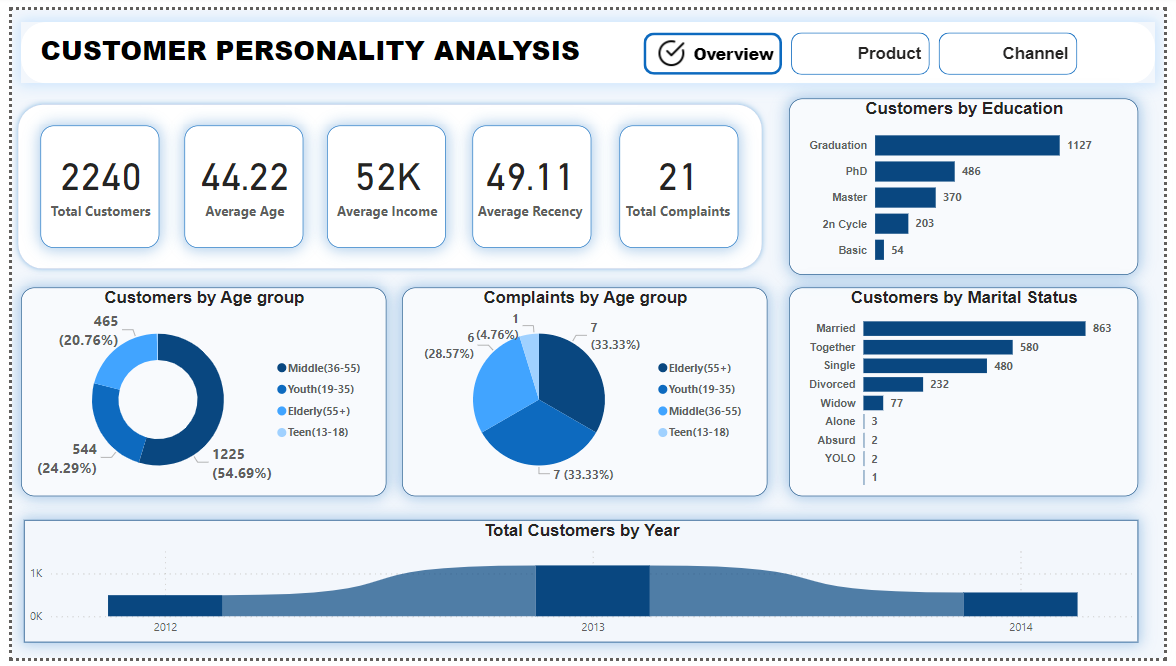

What the dashboard file says about the page in this screenshot:
{"tool":"powerbi","page":{"name":"Overview","canvas":[1280,720],"ordinal":0},"visuals":[{"type":"shape","box":[10,14,1260,68],"z":0},{"type":"textbox","title":"CUSTOMER PERSONALITY ANALYSIS","box":[26,24,614,48],"z":1000},{"type":"pageNavigator","box":[701.1,24.6,483.8,47.2],"z":2000},{"type":"image","box":[701.1,24.6,62.4,45.4],"z":3000},{"type":"card","fields":{"Values":["Task-3-Excel Data Set.Total_Customers"]},"box":[32,128,131.9,136],"z":4000,"group":"g1"},{"type":"shape","box":[0,98,840,196],"z":4000},{"type":"card","fields":{"Values":["Task-3-Excel Data Set.Average Age"]},"box":[192,128,131.9,136],"z":5000,"group":"g1"},{"type":"group","id":"g1","title":"Group 1","box":[32,128,776,136],"z":5000},{"type":"card","fields":{"Values":["Task-3-Excel Data Set.Average Income"]},"box":[349.7,128,131.9,136],"z":6000,"group":"g1"},{"type":"donutChart","title":"Customers by Age group","fields":{"Y":["Task-3-Excel Data Set.Total Customers"],"Category":["Task-3-Excel Data Set.Age (groups)"]},"box":[10,308,406,232],"z":6000},{"type":"card","fields":{"Values":["Task-3-Excel Data Set.Average Recency"]},"box":[511.9,128,131.9,136],"z":7000,"group":"g1"},{"type":"pieChart","title":"Complaints by Age group","fields":{"Category":["Task-3-Excel Data Set.Age (groups)"],"Y":["Task-3-Excel Data Set.Total Complaints"]},"box":[434,308,406,232],"z":7000},{"type":"card","fields":{"Values":["Task-3-Excel Data Set.Total Complaints"]},"box":[676.1,128,131.9,136],"z":8000,"group":"g1"},{"type":"barChart","title":"Customers by Education","fields":{"Y":["Task-3-Excel Data Set.Total Customers"],"Category":["Task-3-Excel Data Set.Education"]},"box":[864,98,388,196],"z":8000},{"type":"barChart","title":"Customers by Marital Status","fields":{"Y":["Task-3-Excel Data Set.Total Customers"],"Category":["Task-3-Excel Data Set.Marital_Status"]},"box":[864,308,388,232],"z":9000},{"type":"ribbonChart","fields":{"Category":["Task-3-Excel Data Set.Date_Customer.Variation.Date Hierarchy.Year","Task-3-Excel Data Set.Date_Customer.Variation.Date Hierarchy.Quarter","Task-3-Excel Data Set.Date_Customer.Variation.Date Hierarchy.Month","Task-3-Excel Data Set.Date_Customer.Variation.Date Hierarchy.Day"],"Y":["Task-3-Excel Data Set.Total Customers"]},"box":[14,566,1238,136],"z":10000}]}

Visuals, with their boxes in screenshot pixels (x1, y1, x2, y2), scaled from the page's 1280x720 canvas onto the 1176x666 screenshot:
shape: bbox=[9, 13, 1167, 76]
"CUSTOMER PERSONALITY ANALYSIS" textbox: bbox=[24, 22, 588, 67]
pageNavigator: bbox=[644, 23, 1089, 66]
image: bbox=[644, 23, 701, 65]
card - Task-3-Excel Data Set.Total_Customers: bbox=[29, 118, 151, 244]
shape: bbox=[0, 91, 772, 272]
card - Task-3-Excel Data Set.Average Age: bbox=[176, 118, 298, 244]
"Group 1" group: bbox=[29, 118, 742, 244]
card - Task-3-Excel Data Set.Average Income: bbox=[321, 118, 442, 244]
"Customers by Age group" donutChart: bbox=[9, 285, 382, 500]
card - Task-3-Excel Data Set.Average Recency: bbox=[470, 118, 591, 244]
"Complaints by Age group" pieChart: bbox=[399, 285, 772, 500]
card - Task-3-Excel Data Set.Total Complaints: bbox=[621, 118, 742, 244]
"Customers by Education" barChart: bbox=[794, 91, 1150, 272]
"Customers by Marital Status" barChart: bbox=[794, 285, 1150, 500]
ribbonChart - Task-3-Excel Data Set.Date_Customer.Variation.Date Hierarchy.Year x Task-3-Excel Data Set.Date_Customer.Variation.Date Hierarchy.Quarter: bbox=[13, 524, 1150, 649]
